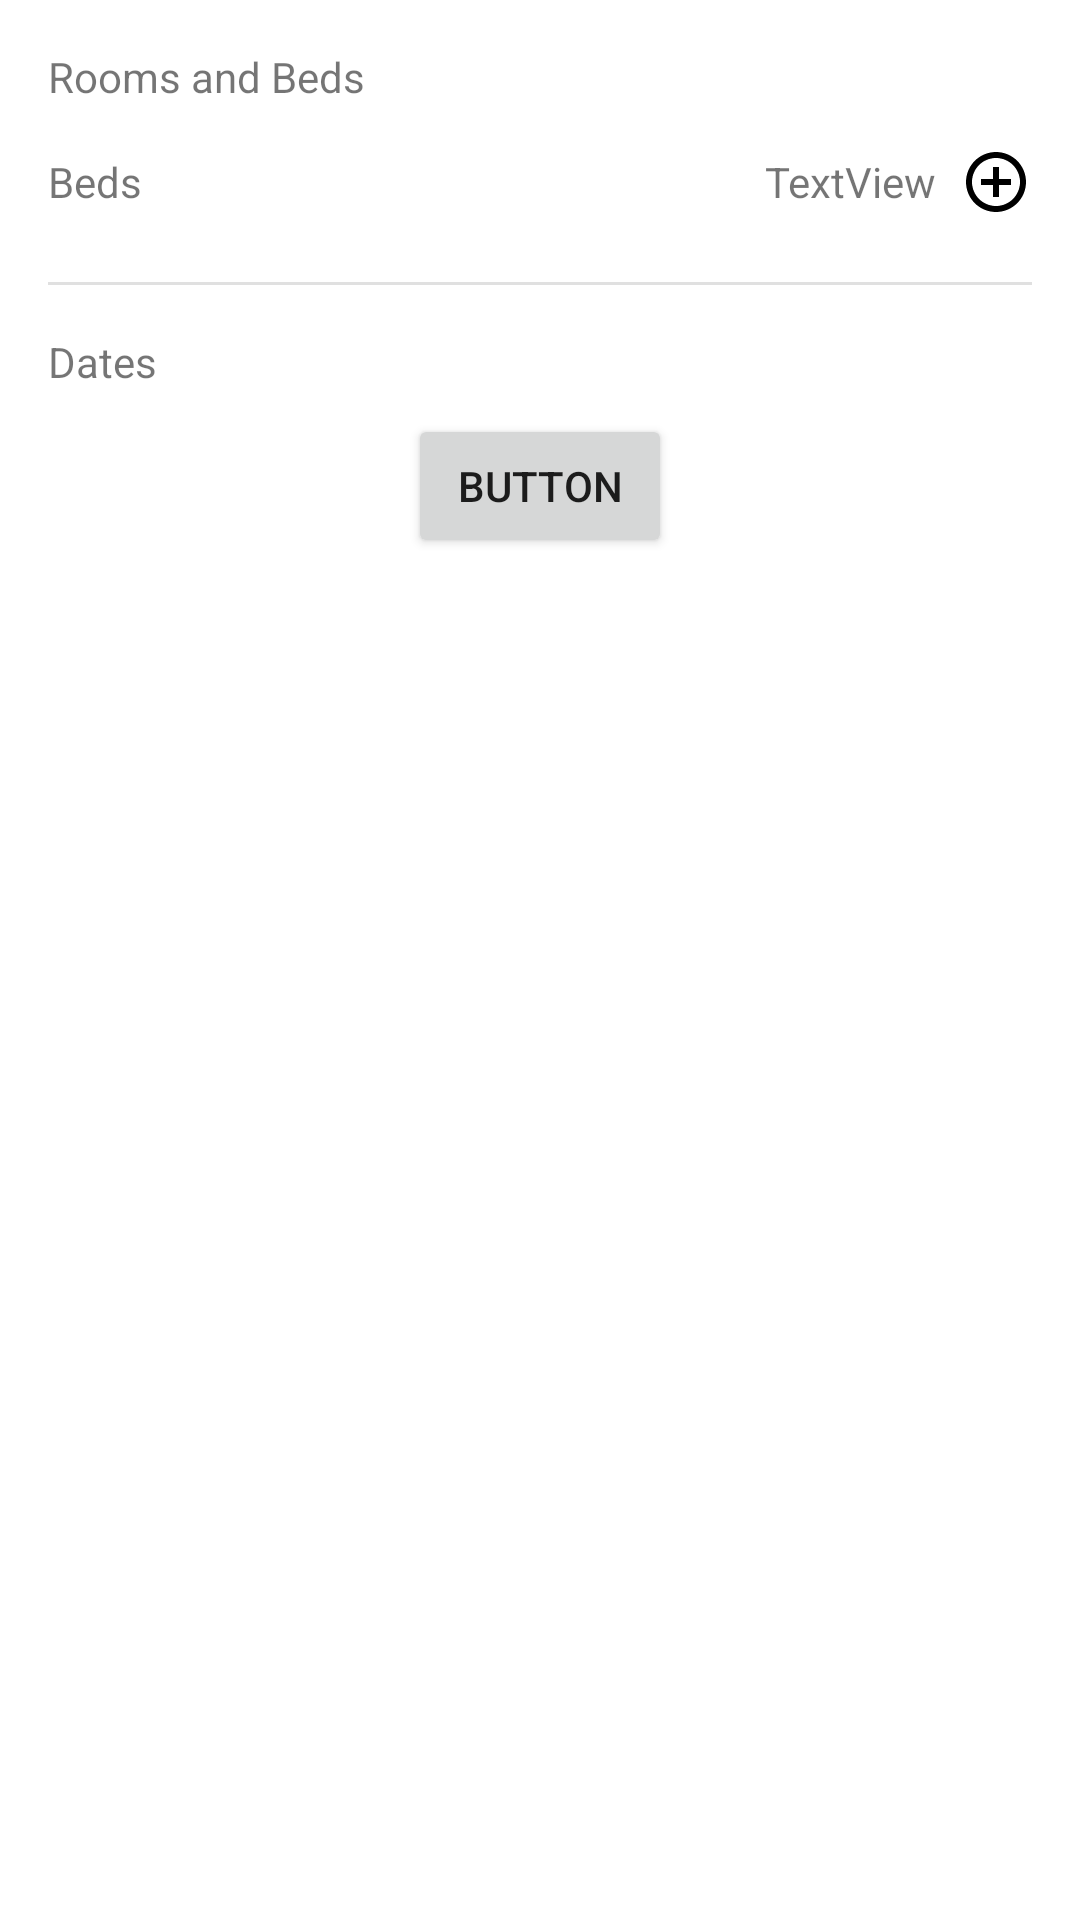

Screen size 1080px×1920px. Icon name, then its center in pixels as point (x, y):
add circle: point (996, 182)
